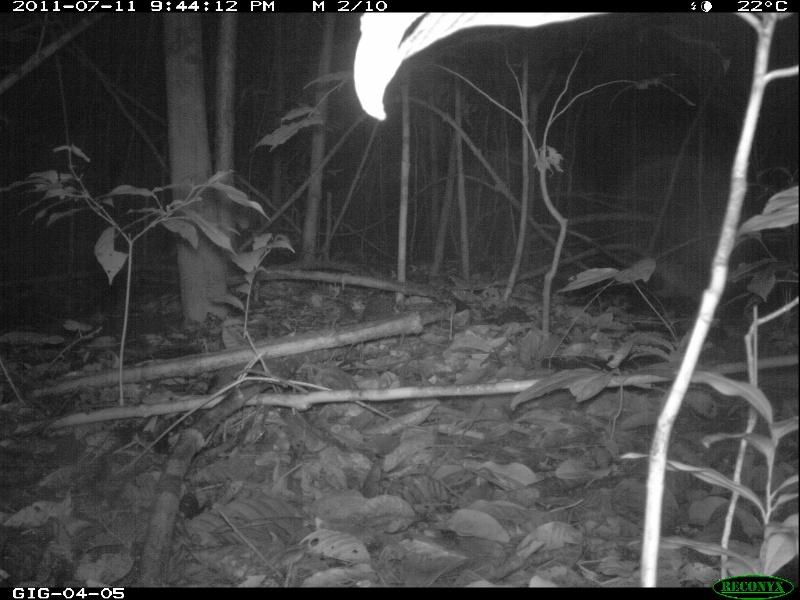opossum: (550, 220, 724, 305)
